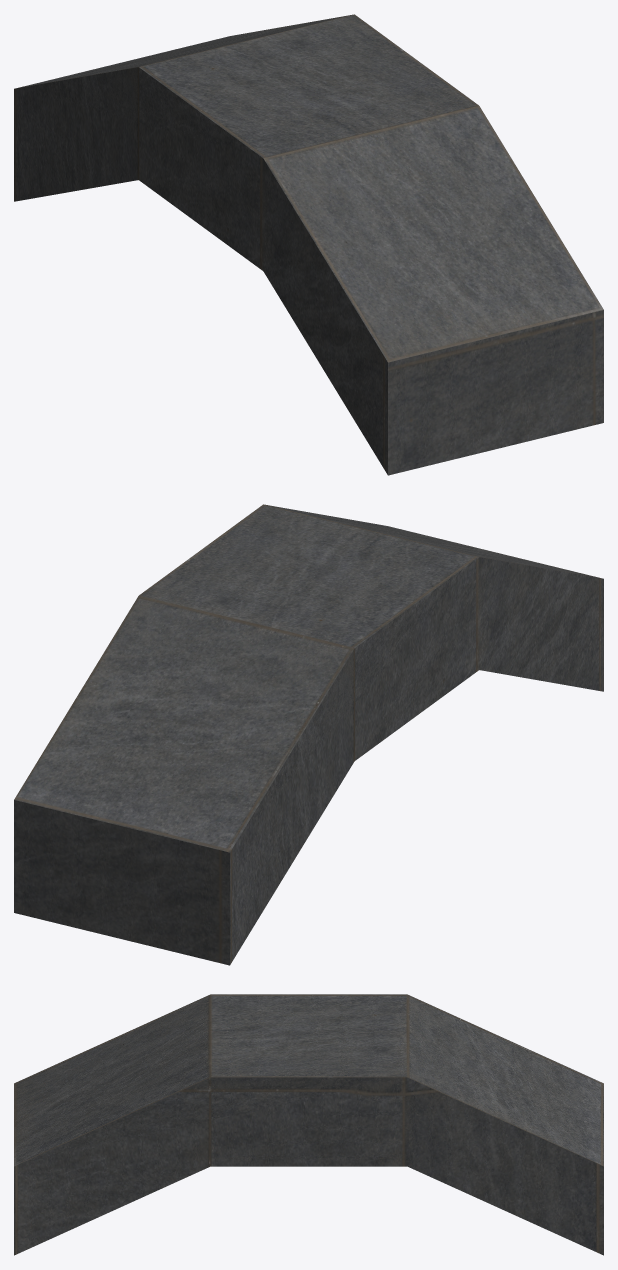
The model's file is SimpleArch.fbx.
The picture shows the model from 3 angles, top to bottom: view 1: azimuth 30°, elevation 25°; view 2: azimuth 150°, elevation 25°; view 3: azimuth 270°, elevation 25°; orthographic projection. The views are drawn at different scales.
Visible parts, largest first — view 1: Cube.003; view 2: Cube.003; view 3: Cube.003.
Part boxes in pixels (x1=…): Cube.003: x1=14, y1=14, x2=603, y2=475; Cube.003: x1=14, y1=504, x2=603, y2=965; Cube.003: x1=14, y1=994, x2=603, y2=1255.
Size of the model in its own units: 10000 by 10000 by 30000.
